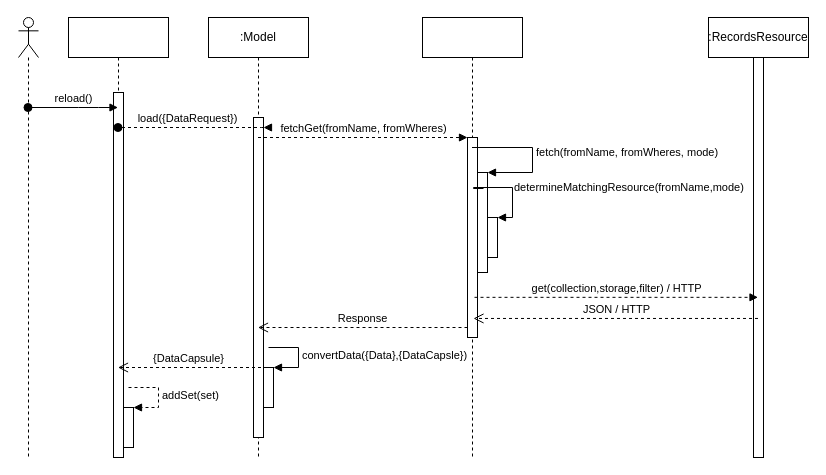
The diagram is 826 pixels wide and 475 high, and some of its shapes have lost their labels. The shapes that lost their labels are listed below. From the top down, each one's box as (x1, y1, x2, y2) in pixels, then its label:
(68, 16, 168, 458): : Component
(422, 16, 522, 458): :RemoteHandler
